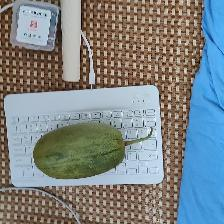gua: (28, 121, 129, 175)
